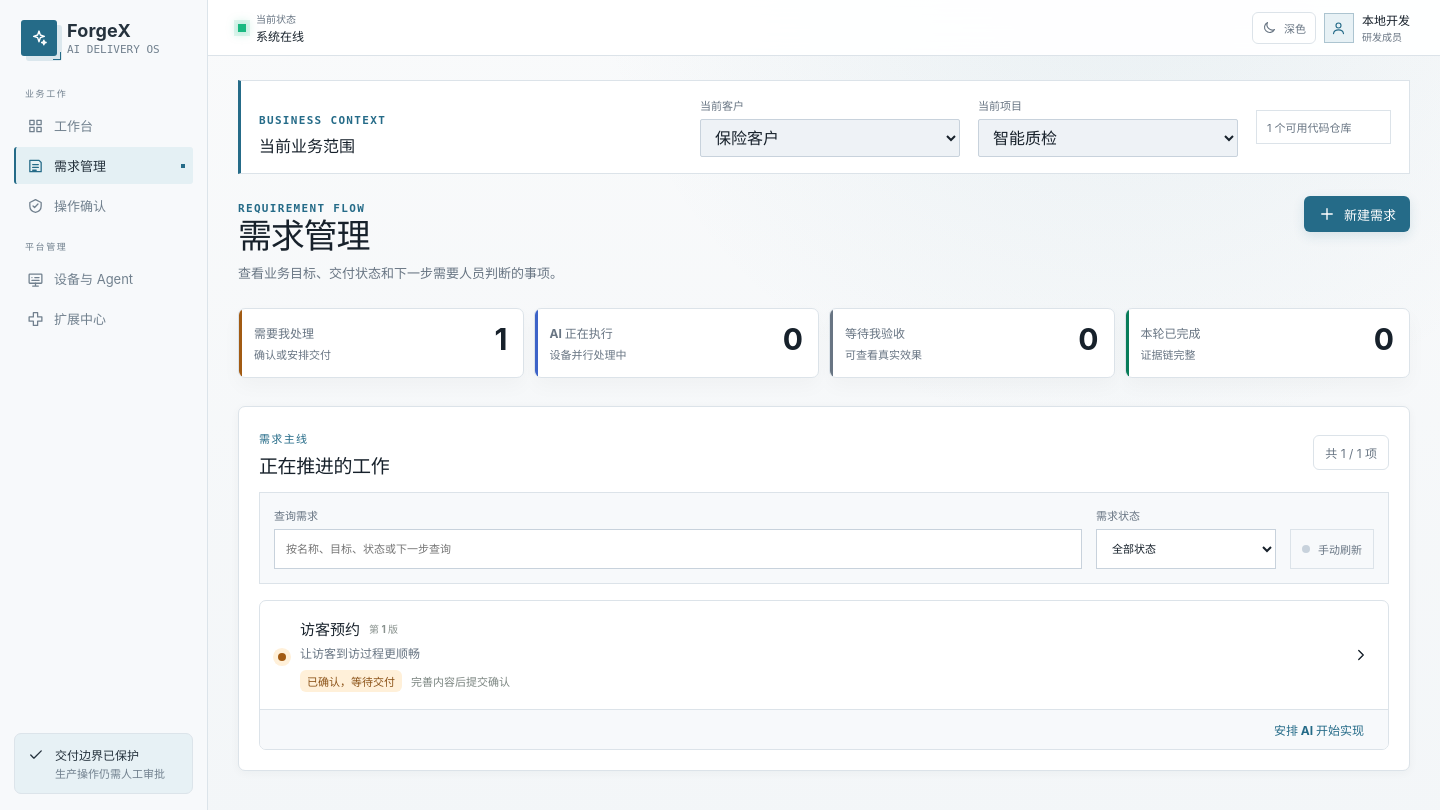
Test: RequirementWorkbench › 读取团队能力期间切换项目不会把旧项目交付带到新项目
Click the button "安排 AI 开始实现". click: [1319, 729]
box: [1268, 720, 1370, 739]
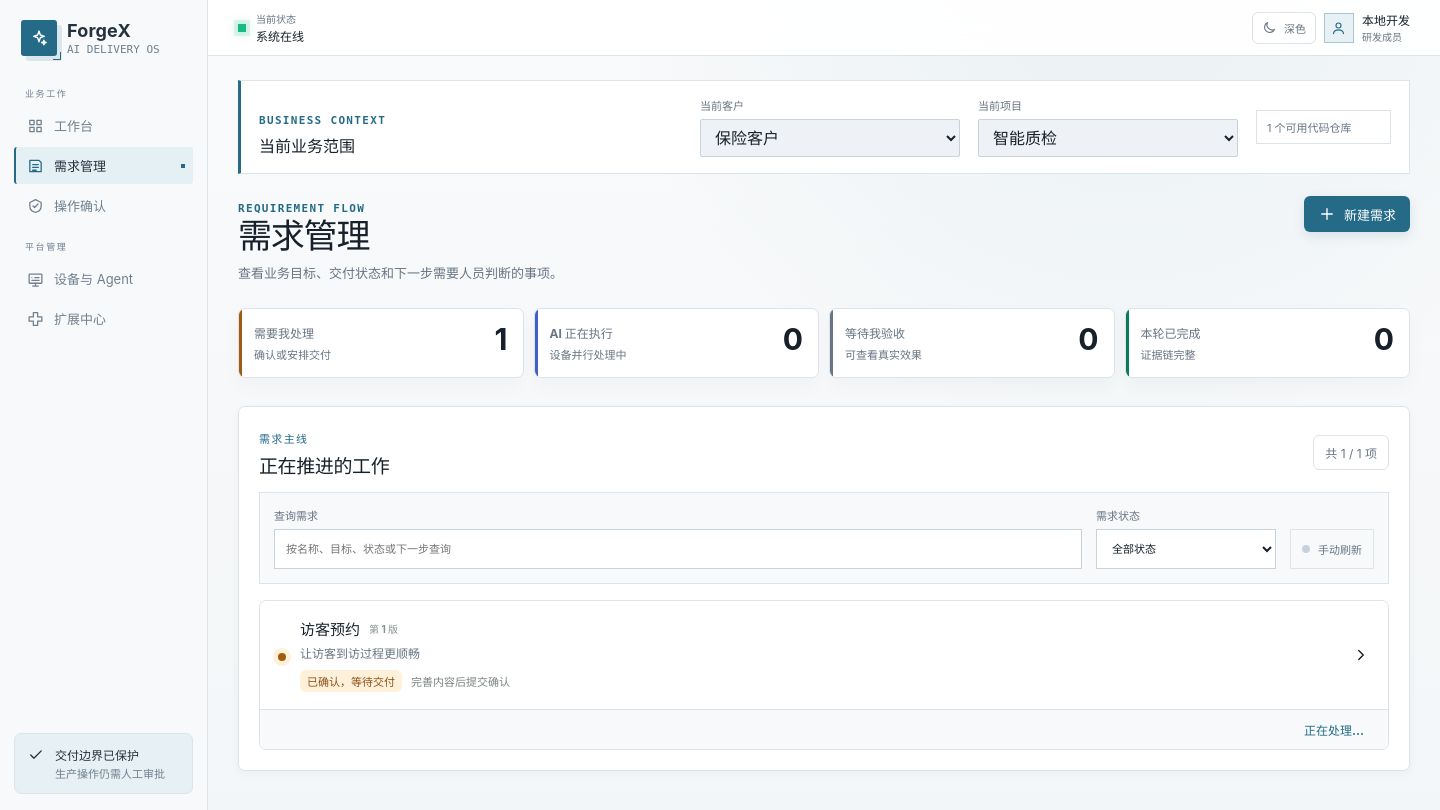
Select "营销视频" in the dropdown labelled "当前项目". click: [1108, 138]
box: [978, 119, 1238, 157]
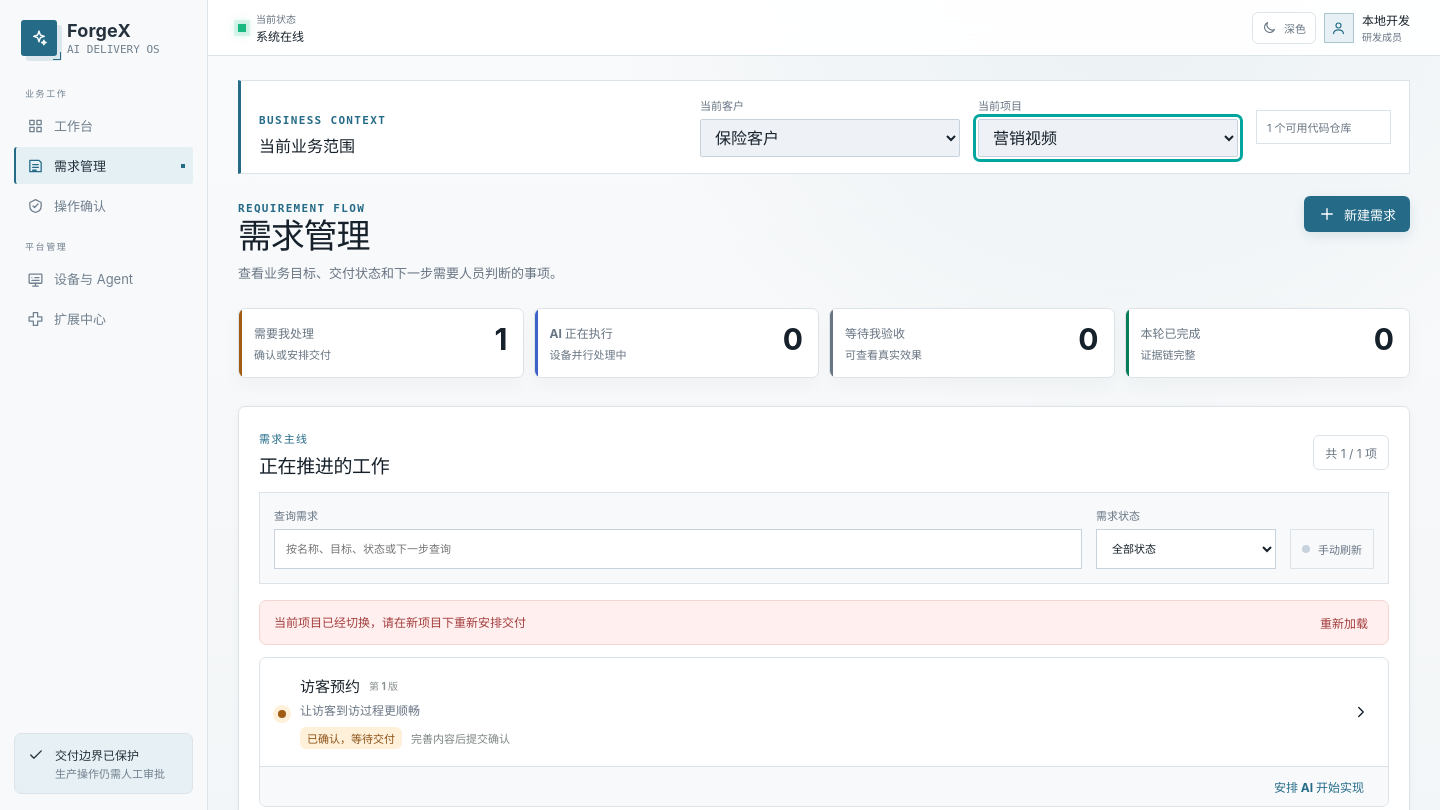
Check: the text "当前项目已经切换，请在新项目下重新安排交付" is shown, box [274, 615, 526, 630]
